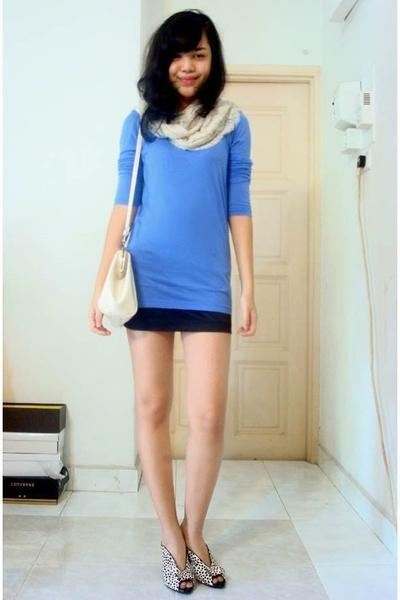bag: (99, 258, 136, 323)
shirt: (115, 112, 251, 316)
shoe: (144, 525, 226, 599)
skirt: (124, 305, 230, 333)
